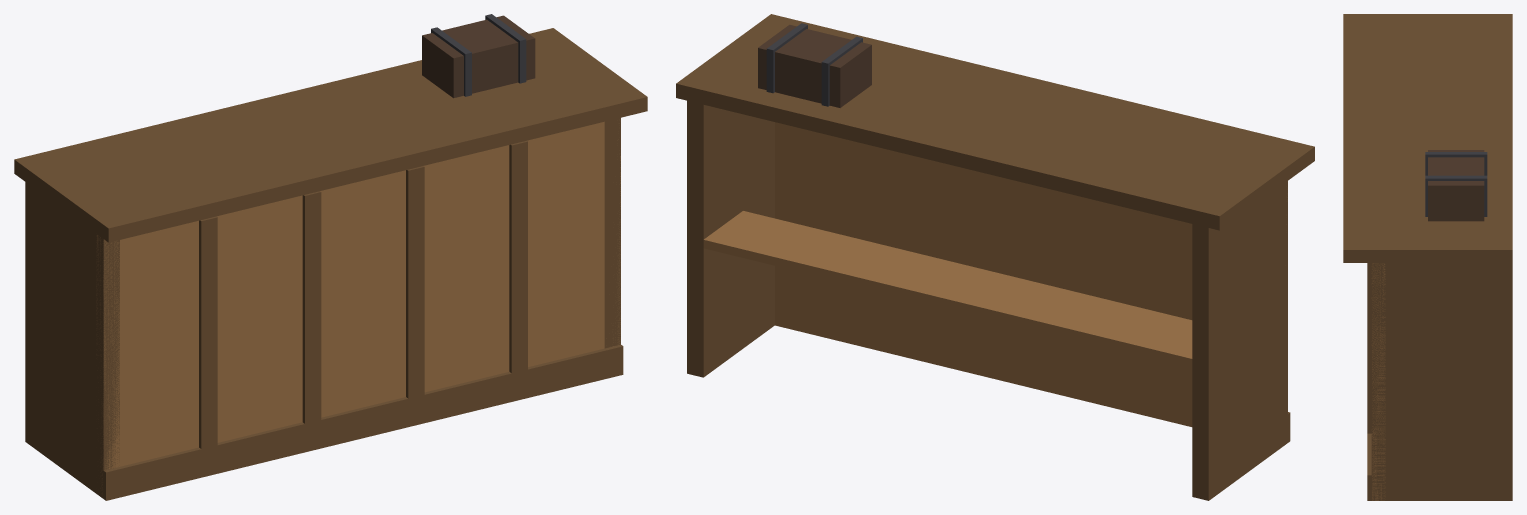
File: Counter.fbx
3 renders of one model, left to right at view 1: azimuth 30°, elevation 25°; view 2: azimuth 150°, elevation 25°; view 3: azimuth 270°, elevation 25°, orthographic. The views are drawn at different scales.
Visible parts, largest first — view 1: Counter; view 2: Counter; view 3: Counter.
Boxes of the visible parts, x1=… form: Counter: x1=14, y1=14, x2=647, y2=500; Counter: x1=676, y1=14, x2=1314, y2=500; Counter: x1=1343, y1=14, x2=1512, y2=500.
Size of the model in its own units: 1.98 by 1.15 by 0.6.
